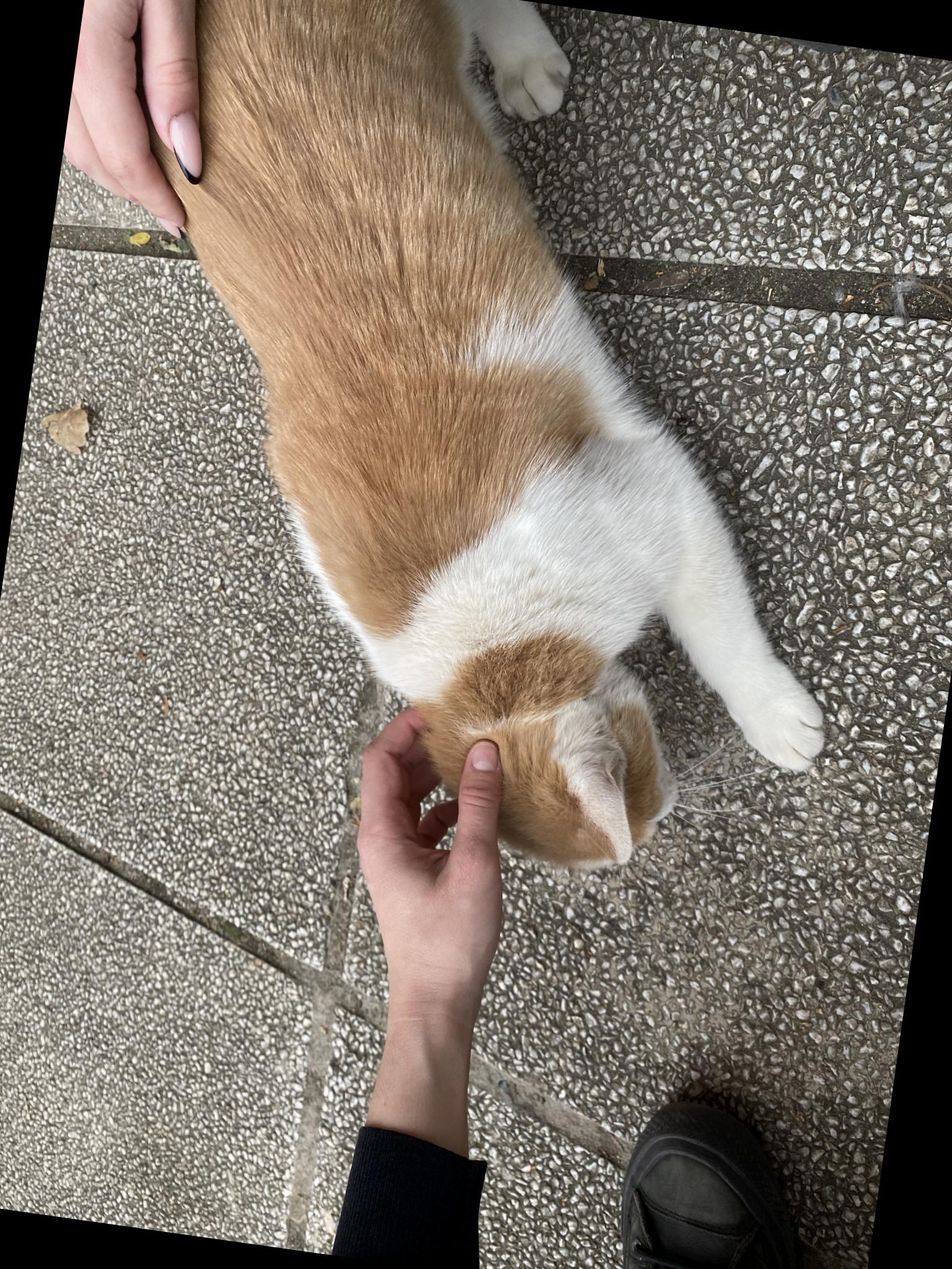macka: (0, 0, 922, 907)
